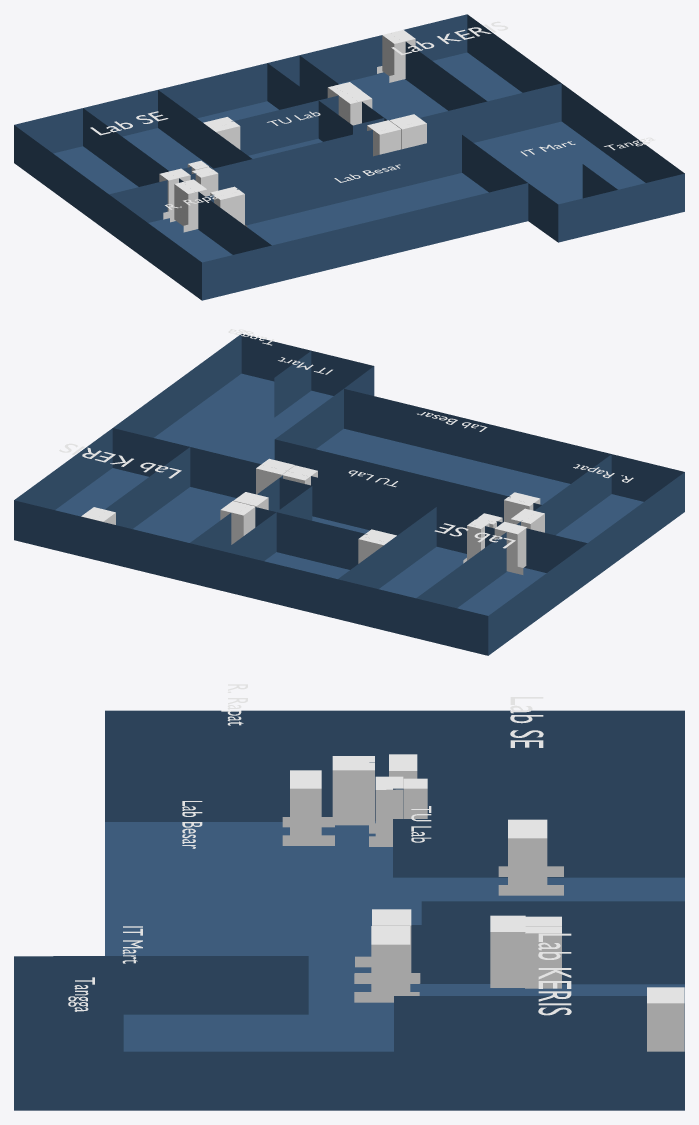
Rendered from lantai2.glb.
3 views of the same model, one above another, from view 1: azimuth 30°, elevation 25°; view 2: azimuth 150°, elevation 25°; view 3: azimuth 270°, elevation 25° (orthographic). The views are drawn at different scales.
Parts seen in each view (by area): view 1: Plane.001, CTRL_Hole.006, CTRL_Hole.002, CTRL_Hole.010, CTRL_Hole.001, CTRL_Hole.003, CTRL_Hole.005, CTRL_Hole.009, Text.007, CTRL_Hole.008; view 2: Plane.001, CTRL_Hole.008, CTRL_Hole.004, CTRL_Hole.010, CTRL_Hole.009, Text.007, CTRL_Hole.005, CTRL_Hole.007; view 3: Plane.001, CTRL_Hole.006, CTRL_Hole.009, CTRL_Hole.010, CTRL_Hole.003, CTRL_Hole.002, CTRL_Hole.004, CTRL_Hole.005, CTRL_Hole, Text.007, CTRL_Baseboard.009, CTRL_Hole.007 (+3 smaller).
Part boxes in pixels (x1,y1,x2,y2): Plane.001: (14,14,684,300); CTRL_Hole.006: (174,179,207,229); CTRL_Hole.002: (382,30,415,79); CTRL_Hole.010: (389,114,426,149); CTRL_Hole.001: (367,120,401,155); CTRL_Hole.003: (338,90,372,125); CTRL_Hole.005: (210,186,244,225); CTRL_Hole.009: (203,117,240,149); Text.007: (391,21,507,55); CTRL_Hole.008: (159,168,190,211); Plane.001: (14,334,684,655); CTRL_Hole.008: (494,521,527,571); CTRL_Hole.004: (220,501,255,544); CTRL_Hole.010: (256,458,294,494); CTRL_Hole.009: (358,529,396,563); Text.007: (59,443,181,478); CTRL_Hole.005: (504,492,540,522); CTRL_Hole.007: (467,519,489,560); Plane.001: (14,710,684,1110); CTRL_Hole.006: (332,756,374,825); CTRL_Hole.009: (508,819,547,892); CTRL_Hole.010: (371,926,410,999); CTRL_Hole.003: (490,915,525,987); CTRL_Hole.002: (647,987,684,1051); CTRL_Hole.004: (525,916,561,988); CTRL_Hole.005: (290,770,321,843); CTRL_Hole: (375,776,403,843); Text.007: (538,933,571,1015); CTRL_Baseboard.009: (498,866,563,895); CTRL_Hole.007: (403,778,427,818).
Bounding box in the file's own units: 4.94 × 0.6418 × 4.11.
